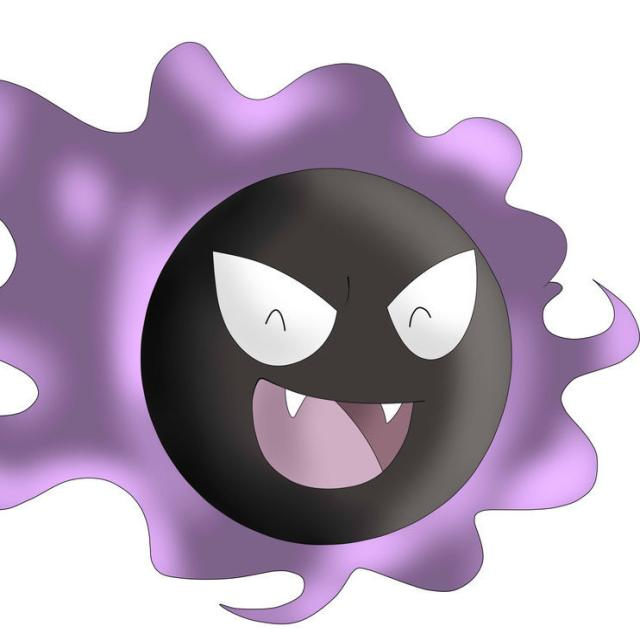Gastly: (0, 65, 572, 593)
